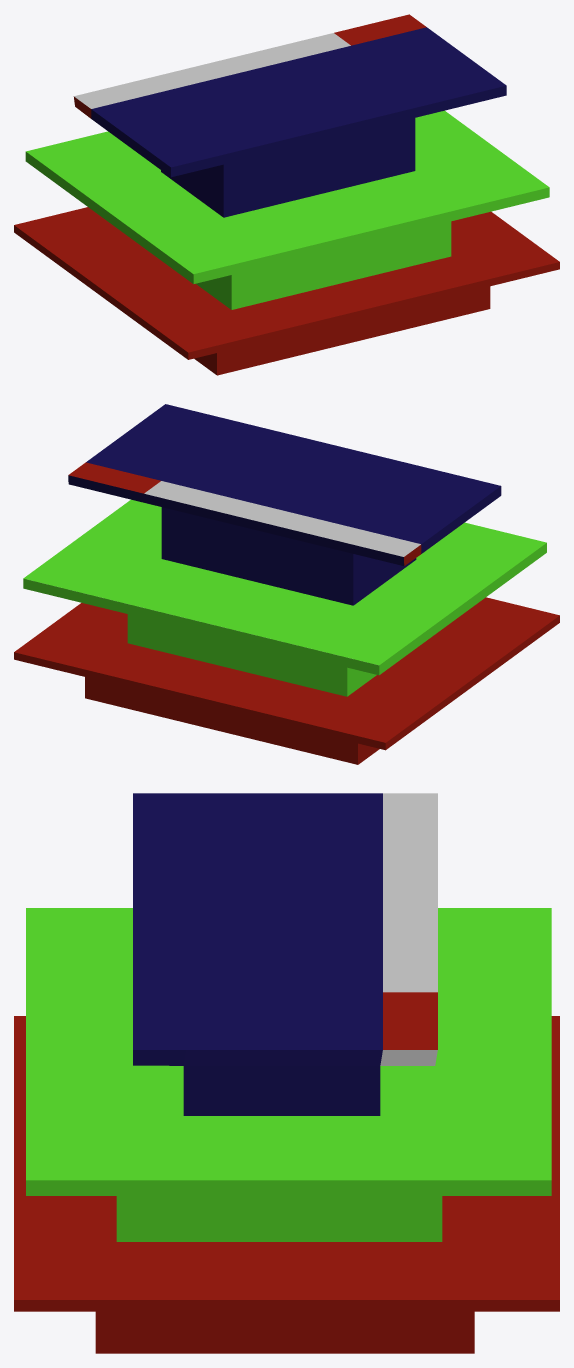
Rendered from mesas de exhibición HappyToyShop.fbx.
The picture shows the model from 3 angles, top to bottom: view 1: azimuth 30°, elevation 25°; view 2: azimuth 150°, elevation 25°; view 3: azimuth 270°, elevation 25°; orthographic projection. The views are drawn at different scales.
Parts seen in each view (by area): view 1: mesas de exhibición; view 2: mesas de exhibición; view 3: mesas de exhibición.
Part boxes in pixels (x1=…): mesas de exhibición: x1=14, y1=14, x2=559, y2=375; mesas de exhibición: x1=14, y1=404, x2=559, y2=764; mesas de exhibición: x1=14, y1=793, x2=559, y2=1353.
Bounding box in the file's own units: 152 × 81 × 123.
